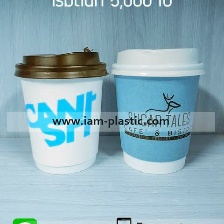paper_cup: (106, 42, 209, 177), (8, 43, 110, 178)
